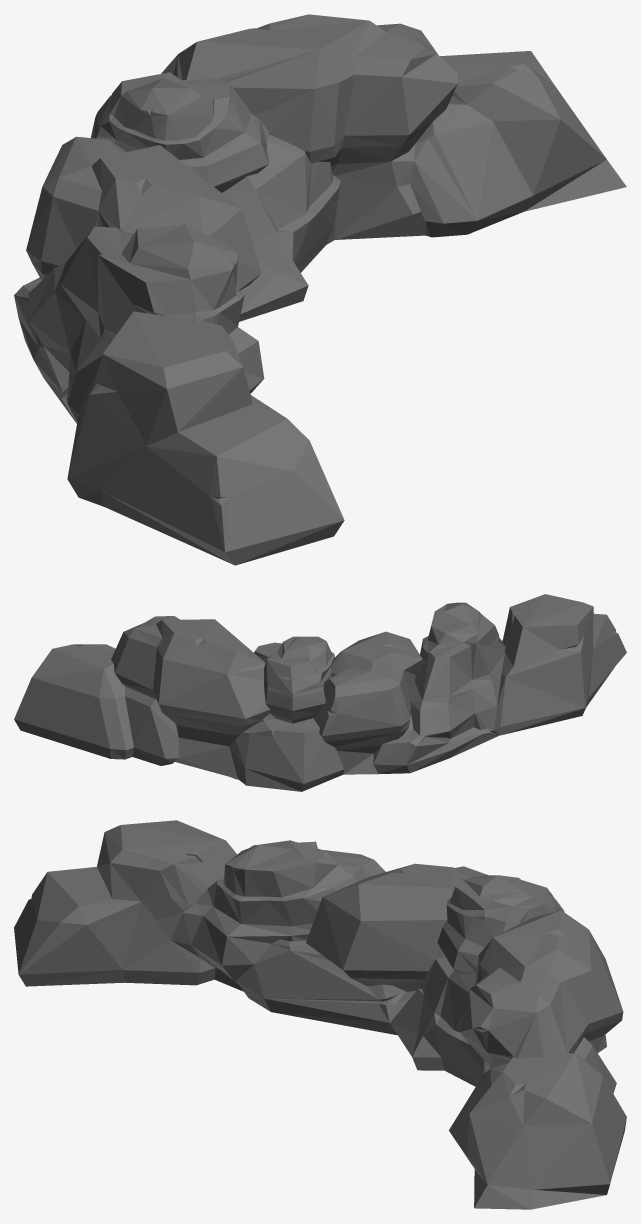
File: rock__rockwall_corner_medium.glb
3 renders of one model, top to bottom at view 1: azimuth 30°, elevation 25°; view 2: azimuth 150°, elevation 25°; view 3: azimuth 270°, elevation 25°, orthographic. The views are drawn at different scales.
Visible parts, largest first — view 1: rockwall.corner.medium; view 2: rockwall.corner.medium; view 3: rockwall.corner.medium.
Part boxes in pixels (x1,y1,x2,y2): rockwall.corner.medium: (14,14,626,565); rockwall.corner.medium: (14,594,626,791); rockwall.corner.medium: (14,820,626,1209).
Bounding box in the file's own units: 5.77 × 1.5 × 5.25.
1 material, 1 textured.
